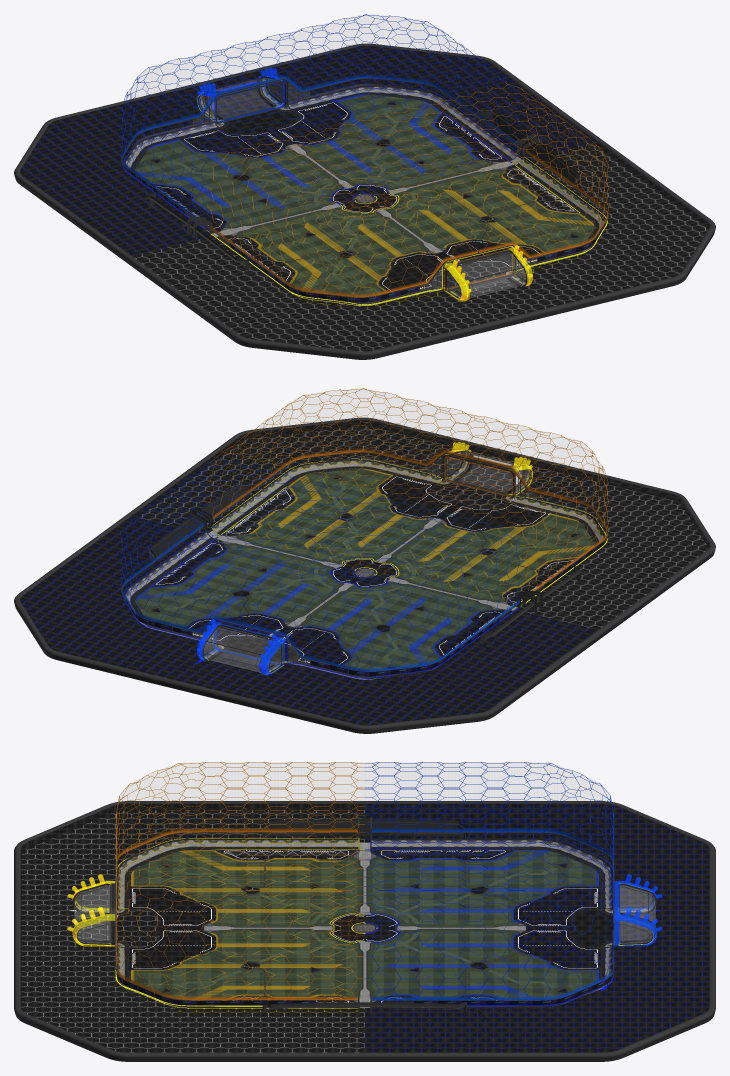
The model's file is stadium.glb.
The picture shows the model from 3 angles, top to bottom: view 1: azimuth 30°, elevation 25°; view 2: azimuth 150°, elevation 25°; view 3: azimuth 270°, elevation 25°; orthographic projection. The views are drawn at different scales.
Visible parts, largest first — view 1: OOBFloor, Field_STD_Floor_Thick.001, OOBFloor_Trim, Hexagone_T0, Hexagone_T1, Goutière, Sol_T0, Field_STD_Floor_Hex, Goal_STD_Glass, Field_STD_Floor_Thick.003, Field_STD_Floor_Thick.002, Side_Trim.001 (+17 smaller); view 2: OOBFloor, Field_STD_Floor_Thick.001, OOBFloor_Trim, Hexagone_T1, Hexagone_T0, Goutière, Sol_T0, Field_STD_Floor_Hex, Goal_STD_Glass, Field_STD_Floor_Thick.002, Field_STD_Floor_Thick.003, Side_Trim.001 (+16 smaller); view 3: OOBFloor, Field_STD_Floor_Thick.001, OOBFloor_Trim, Hexagone_T1, Hexagone_T0, Goutière, Sol_T0, Field_STD_Floor_Hex, Field_STD_Floor_Thick.003, Field_STD_Floor_Thick.002, Side_Trim.001, Goal_STD_Glass (+17 smaller).
Boxes of the visible parts, bbox=[...] form: OOBFloor: bbox=[20, 46, 709, 351]; Field_STD_Floor_Thick.001: bbox=[135, 94, 594, 297]; OOBFloor_Trim: bbox=[14, 43, 715, 359]; Hexagone_T0: bbox=[207, 82, 608, 296]; Hexagone_T1: bbox=[121, 14, 522, 216]; Goutière: bbox=[124, 85, 606, 305]; Sol_T0: bbox=[21, 48, 594, 253]; Field_STD_Floor_Hex: bbox=[151, 101, 543, 292]; Goal_STD_Glass: bbox=[139, 78, 589, 303]; Field_STD_Floor_Thick.003: bbox=[136, 95, 485, 225]; Field_STD_Floor_Thick.002: bbox=[248, 171, 594, 293]; Side_Trim.001: bbox=[121, 78, 608, 297]; OOBFloor: bbox=[20, 420, 709, 725]; Field_STD_Floor_Thick.001: bbox=[135, 468, 594, 671]; OOBFloor_Trim: bbox=[14, 417, 715, 733]; Hexagone_T1: bbox=[121, 456, 522, 670]; Hexagone_T0: bbox=[207, 388, 608, 590]; Goutière: bbox=[124, 459, 606, 679]; Sol_T0: bbox=[22, 518, 594, 724]; Field_STD_Floor_Hex: bbox=[151, 474, 550, 669]; Goal_STD_Glass: bbox=[140, 452, 590, 677]; Field_STD_Floor_Thick.002: bbox=[244, 469, 593, 599]; Field_STD_Floor_Thick.003: bbox=[135, 545, 481, 667]; Side_Trim.001: bbox=[121, 452, 608, 671]; OOBFloor: bbox=[20, 803, 709, 1052]; Field_STD_Floor_Thick.001: bbox=[131, 850, 598, 1000]; OOBFloor_Trim: bbox=[14, 801, 715, 1061]; Hexagone_T1: bbox=[365, 762, 613, 1000]; Hexagone_T0: bbox=[116, 762, 364, 1000]; Goutière: bbox=[117, 838, 612, 1007]; Sol_T0: bbox=[365, 804, 708, 1052]; Field_STD_Floor_Hex: bbox=[129, 863, 612, 992]; Field_STD_Floor_Thick.003: bbox=[373, 850, 598, 1000]; Field_STD_Floor_Thick.002: bbox=[131, 850, 356, 1000]; Side_Trim.001: bbox=[115, 816, 614, 1014]; Goal_STD_Glass: bbox=[74, 860, 655, 943].
Size of the model in its own units: 12448 by 2234 by 14496.
Materials: 23 (13 with a texture image).
